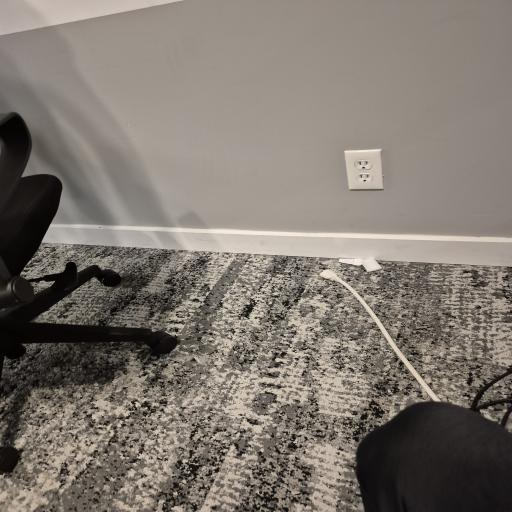outlet: (348, 153, 383, 192)
